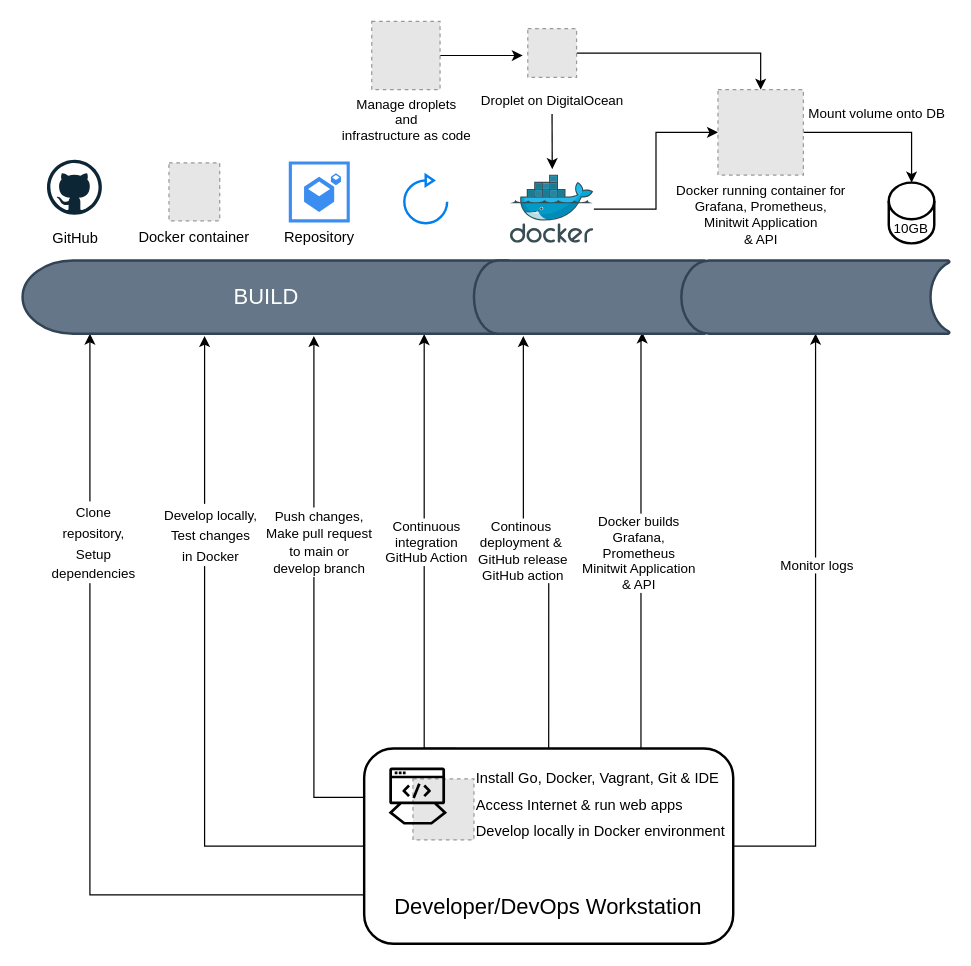
Some shapes in this 971 by 966 pixel diagram are drawn without their labels. Grey dashed boxes stand in for pictures. The box of each missing label's shape, as (x1, y1, x2, y2) in pixels:
CI: (402, 173, 448, 224)
DEPLOY: (472, 259, 706, 334)
RUN: (680, 259, 950, 334)
